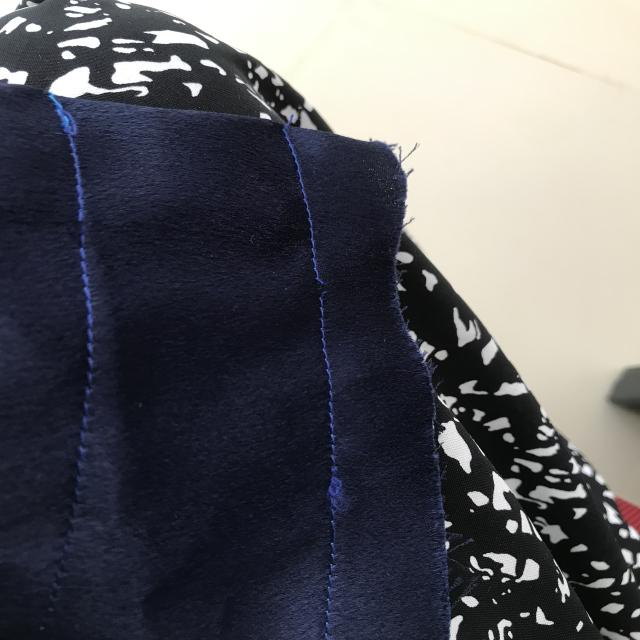broken: (303, 268, 340, 306)
